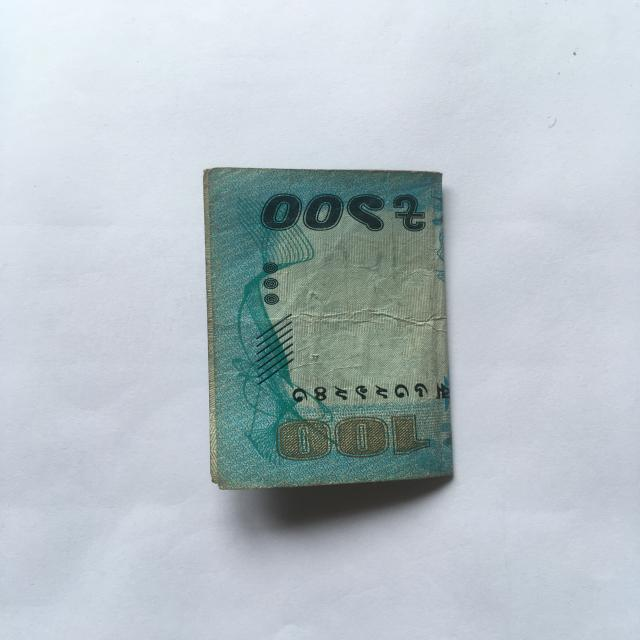Taka: (202, 159, 476, 491)
